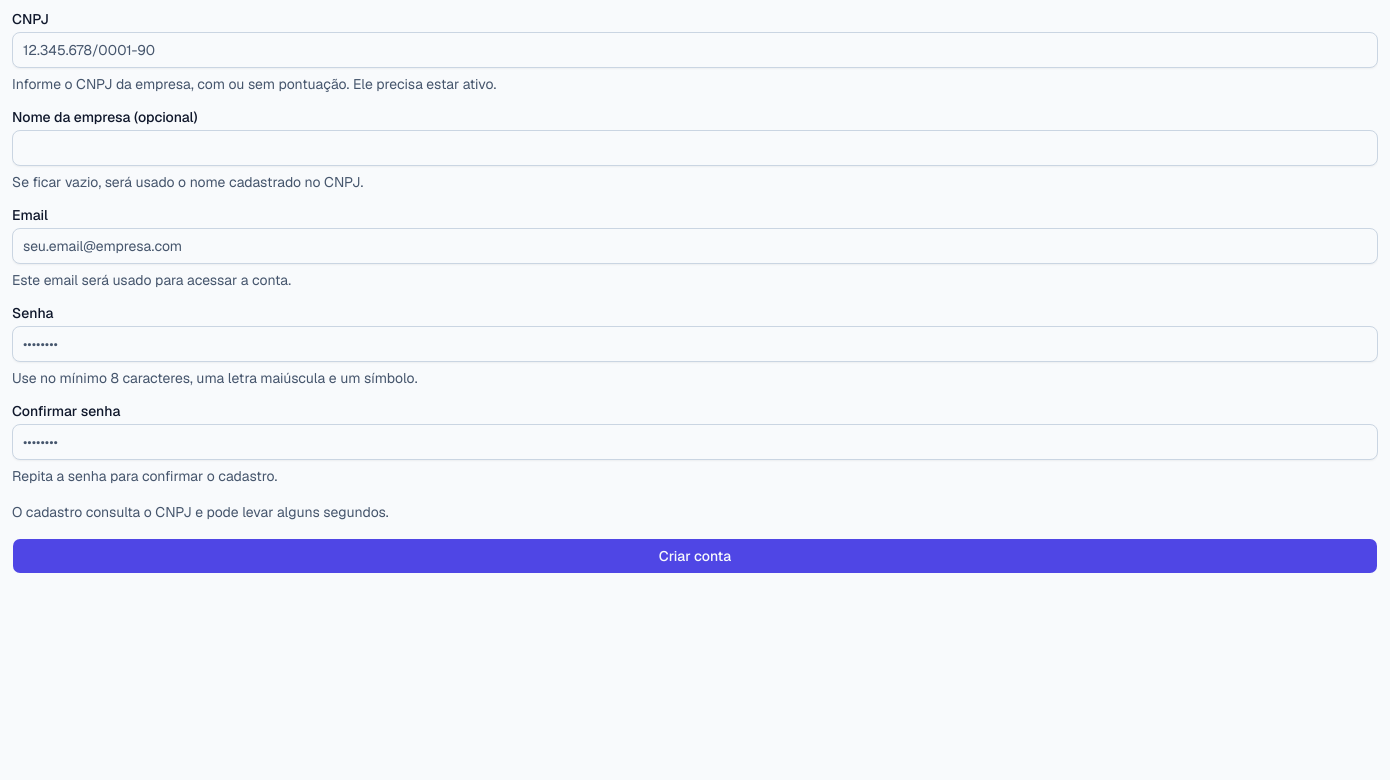
Test: registration UI › does not submit mismatched passwords
Type "55444333000101" into the field labelled "CNPJ".
click(695, 50); type("55444333000101")  # box [12,32,1378,68]
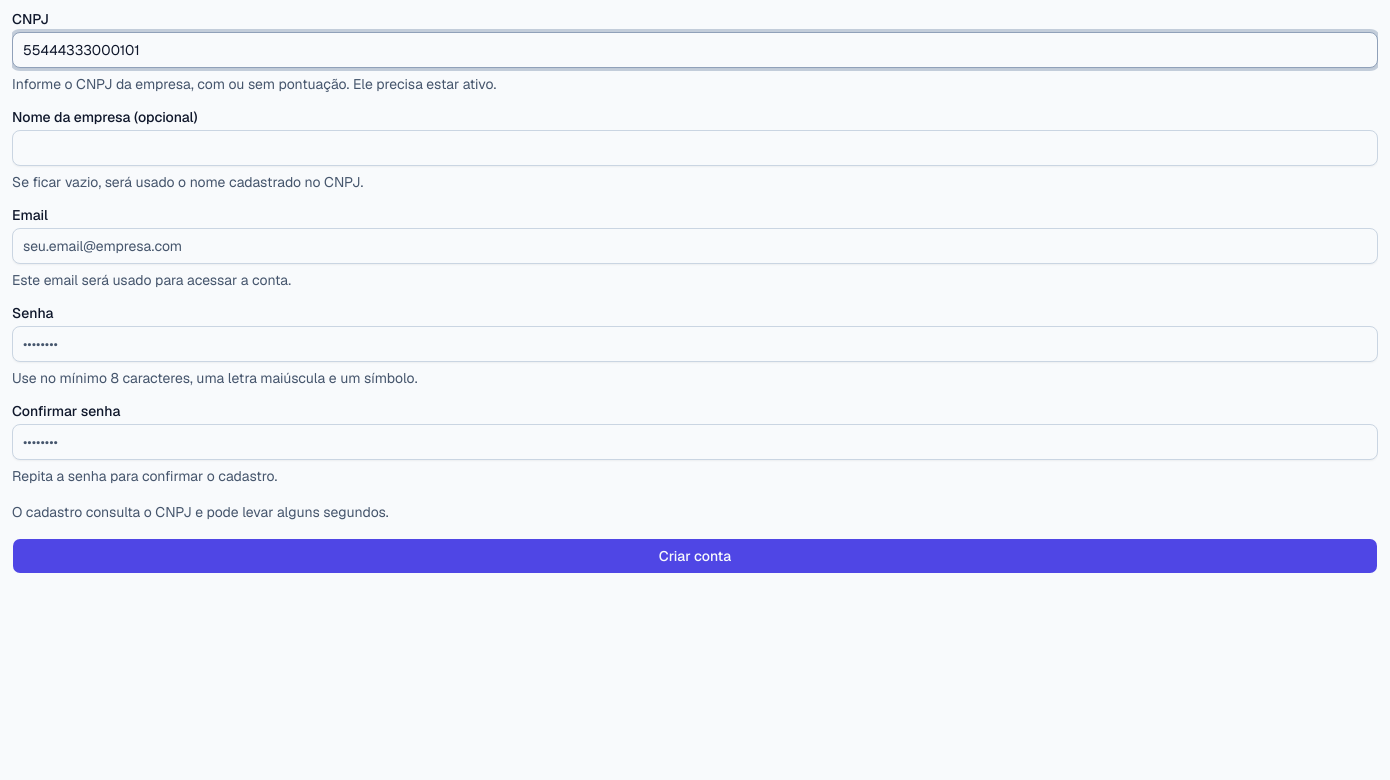
Type "test@example.com" into the field labelled "Email".
click(695, 246); type("test@example.com")  # box [12,228,1378,264]
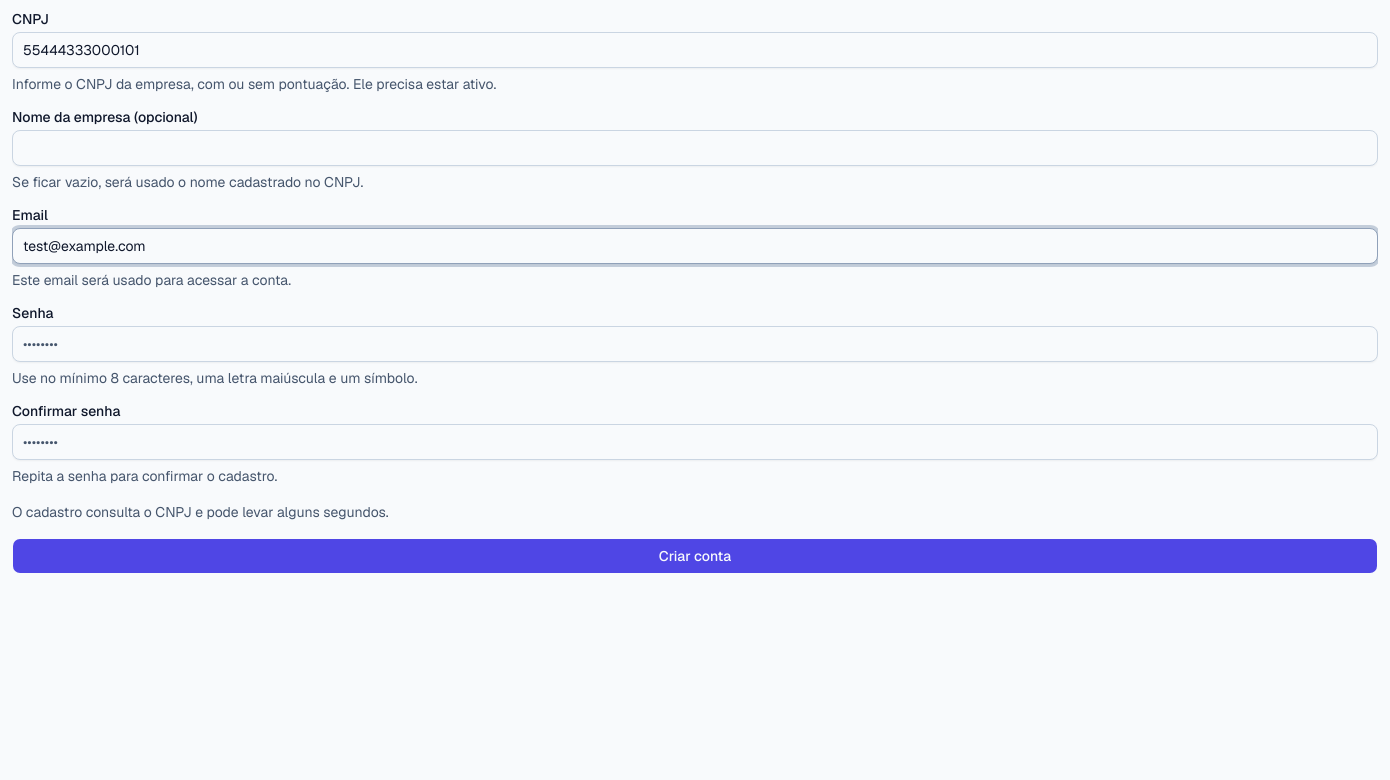
Type "Test-password!" into the password field labelled "Senha".
click(695, 344); type("Test-password!")  # box [12,326,1378,362]
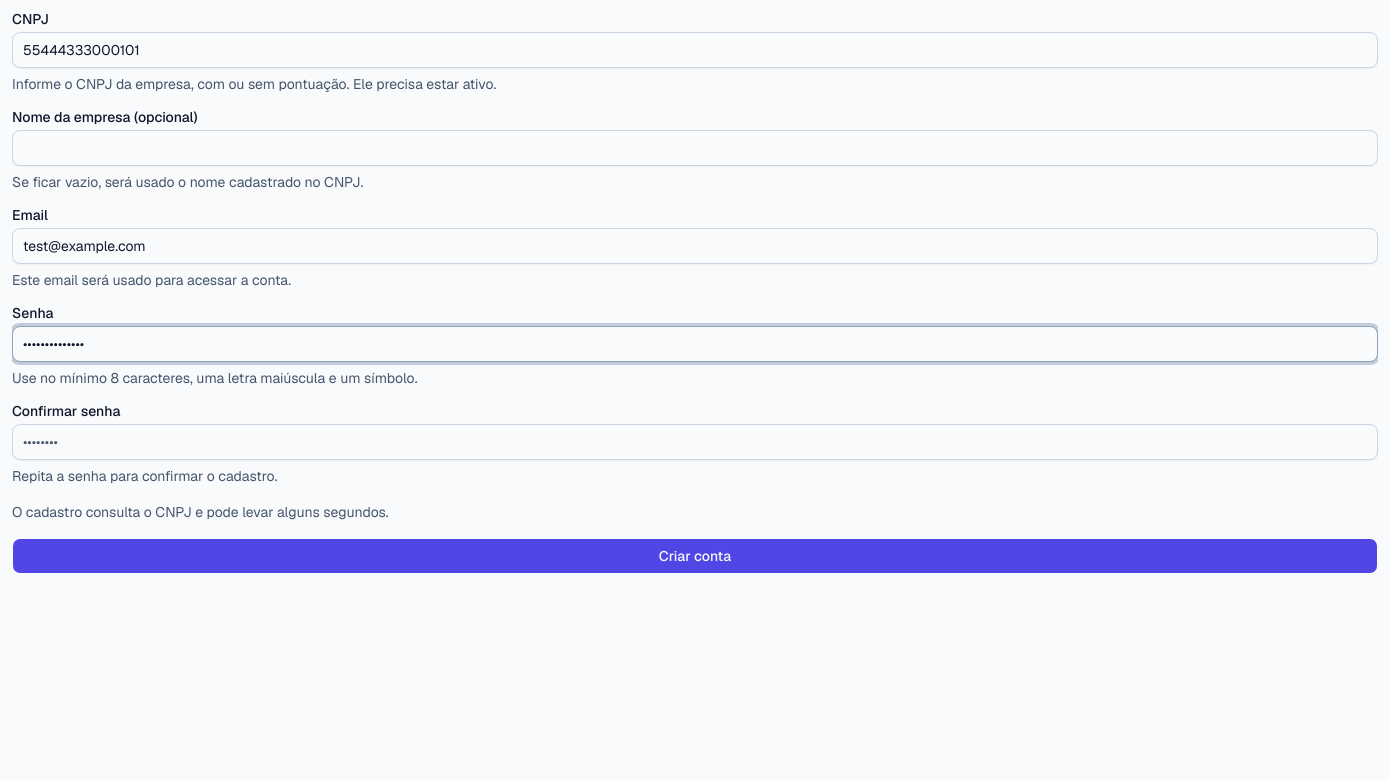
Type "different" into the password field labelled "Confirmar senha".
click(695, 442); type("different")  # box [12,424,1378,460]
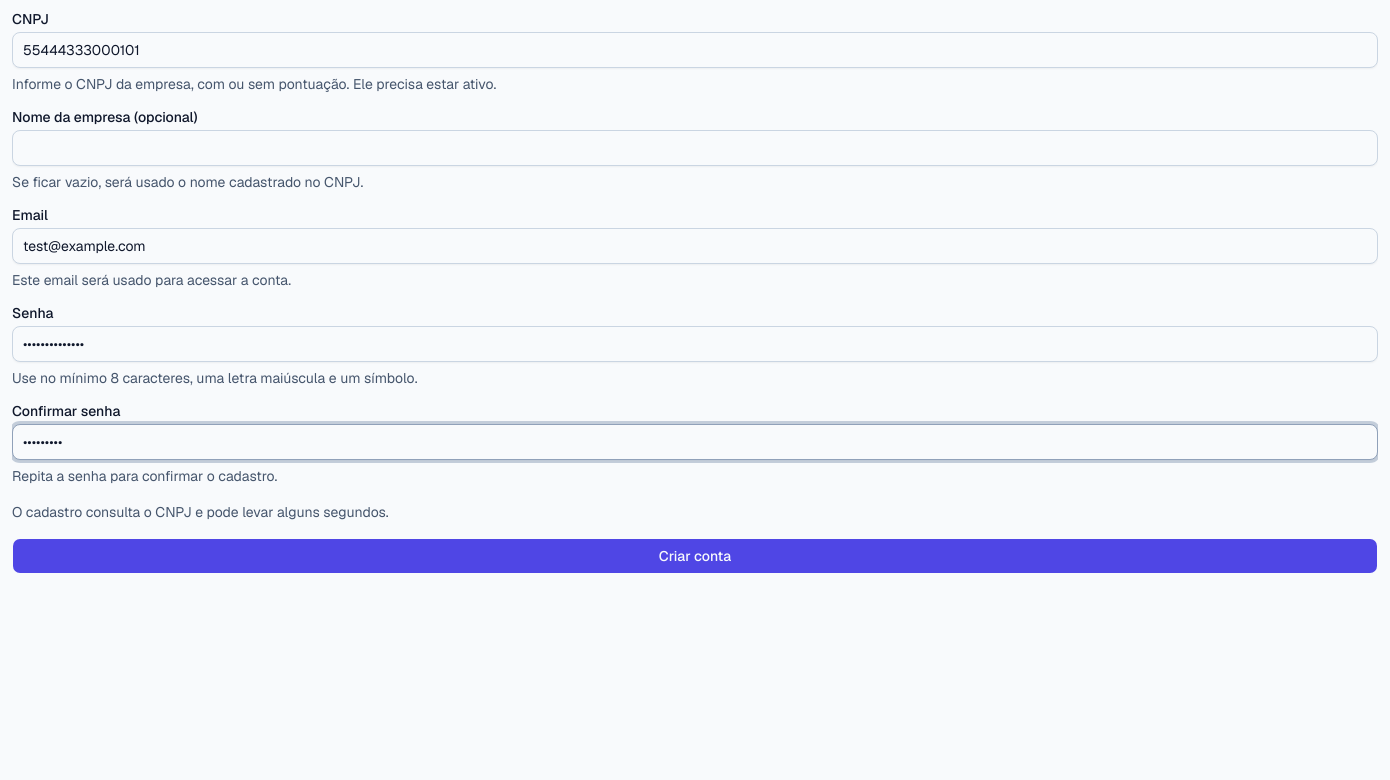
Click the button "Criar conta".
click(695, 556)  # box [12,538,1378,574]
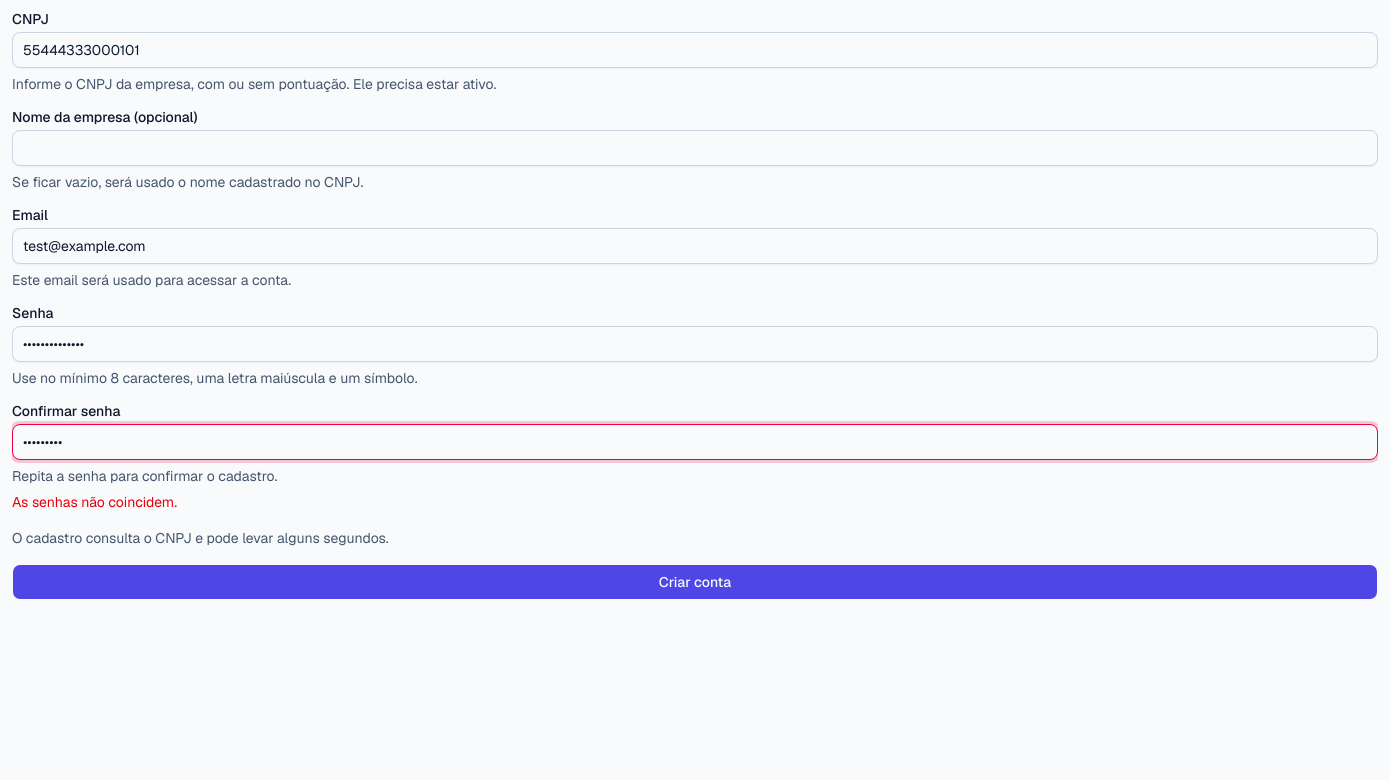
expect the text "As senhas não coincidem." is shown: met, box [12,493,177,511]
